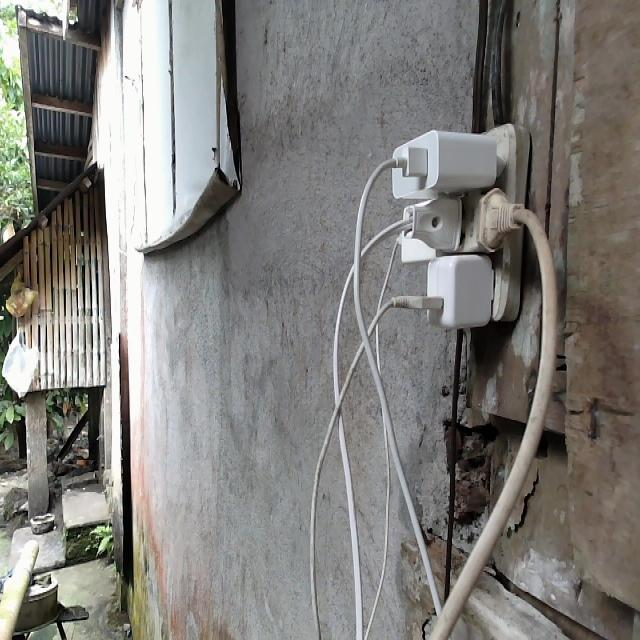-: (377, 116, 531, 331)
